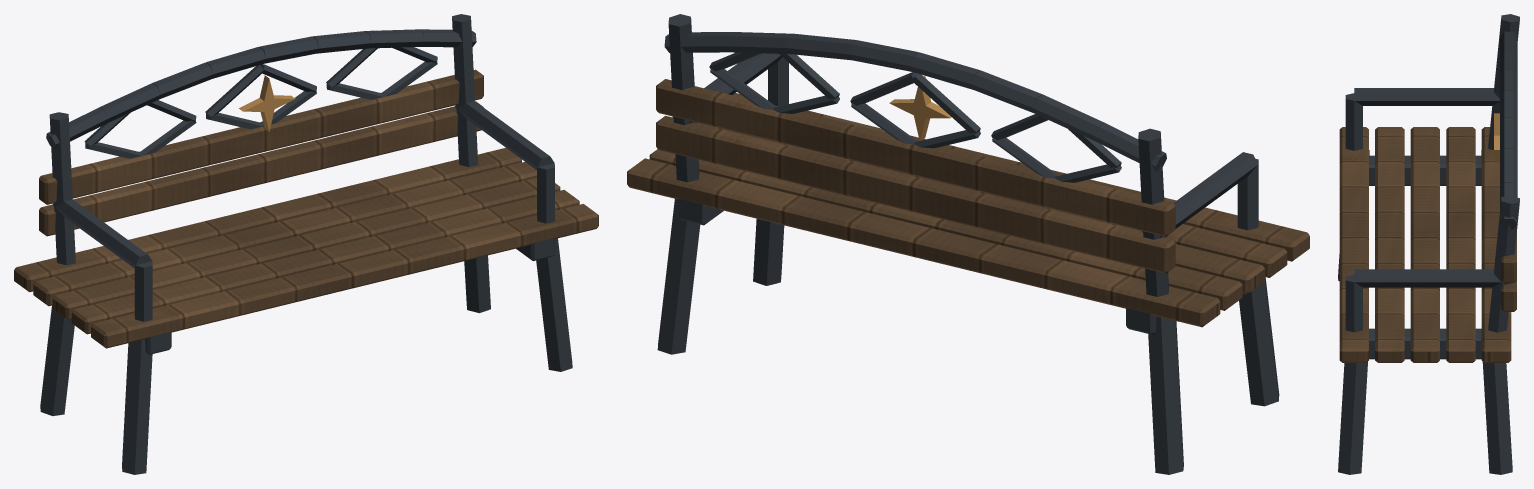
Rendered from Furn_Bench2.fbx.
3 views of the same model, side by side, from view 1: azimuth 30°, elevation 25°; view 2: azimuth 150°, elevation 25°; view 3: azimuth 270°, elevation 25° (orthographic). The views are drawn at different scales.
Parts seen in each view (by area): view 1: Furn_Bench2_Mesh; view 2: Furn_Bench2_Mesh; view 3: Furn_Bench2_Mesh.
Boxes of the visible parts, bbox=[...] form: Furn_Bench2_Mesh: bbox=[14, 14, 598, 474]; Furn_Bench2_Mesh: bbox=[627, 14, 1309, 474]; Furn_Bench2_Mesh: bbox=[1338, 14, 1519, 474].
Bounding box in the file's own units: 1.6 × 0.95 × 0.55.
Materials: 3 (1 with a texture image).
